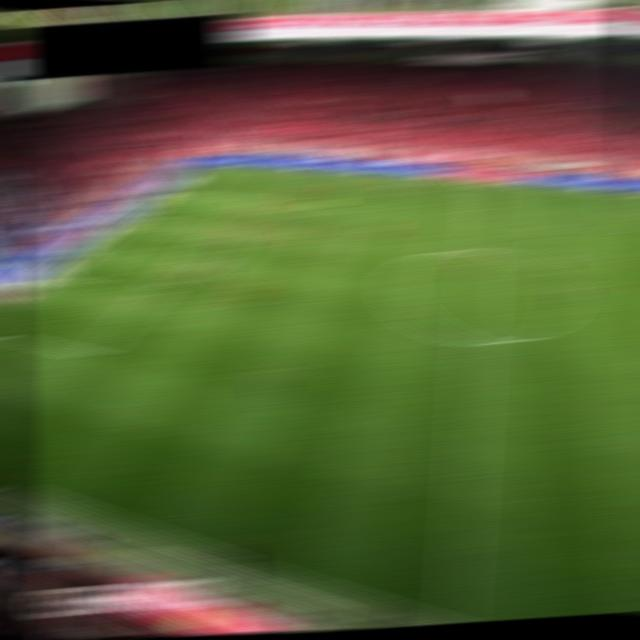bigarea_bottom_inner: (78, 350, 107, 360)
bigarea_top_inner: (239, 192, 269, 204)
bigarea_top_outter: (155, 186, 185, 197)
bottom_arc_area_intersection: (144, 277, 179, 295)
corner: (193, 162, 224, 173)
halfcircle_bottom: (461, 334, 491, 345)
halfcircle_top: (467, 244, 497, 255)
midline_bottom_intersection: (436, 618, 472, 623)
midline_top_intersection: (470, 181, 499, 191)
smallarea_bottom_inner: (68, 278, 98, 290)
smallarea_bottom_outter: (35, 274, 64, 284)
smallarea_top_inner: (146, 215, 175, 226)
smallarea_top_outter: (120, 212, 149, 223)
top_arc_area_intersection: (203, 226, 234, 237)
